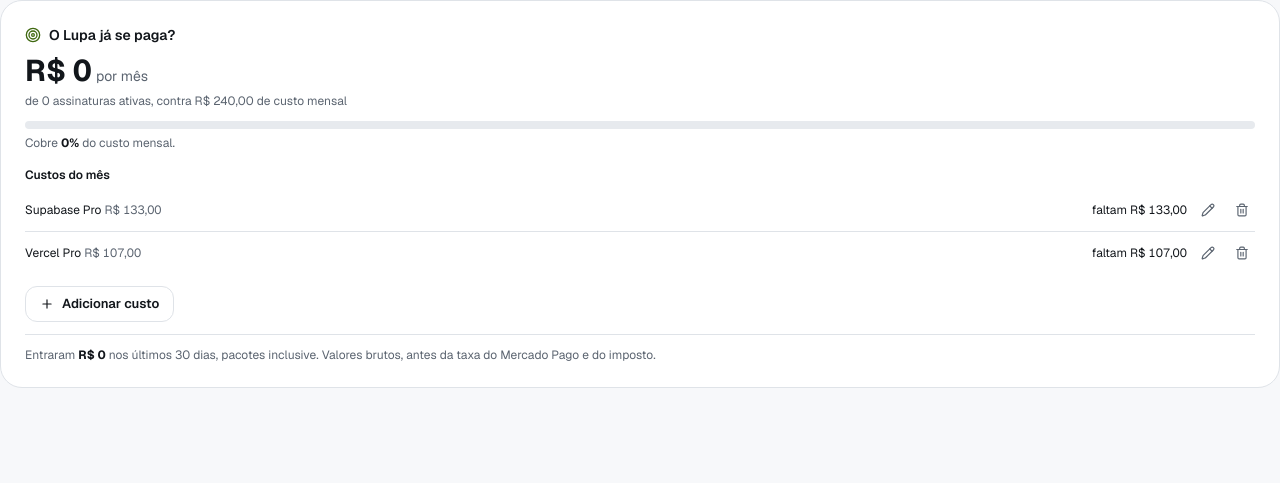
Scenario: o Lupa já se paga? › acrescentar manda nome e valor como digitados, e pede a conta de novo
Click the button "Adicionar custo": [100, 304] box [25,286,174,322]
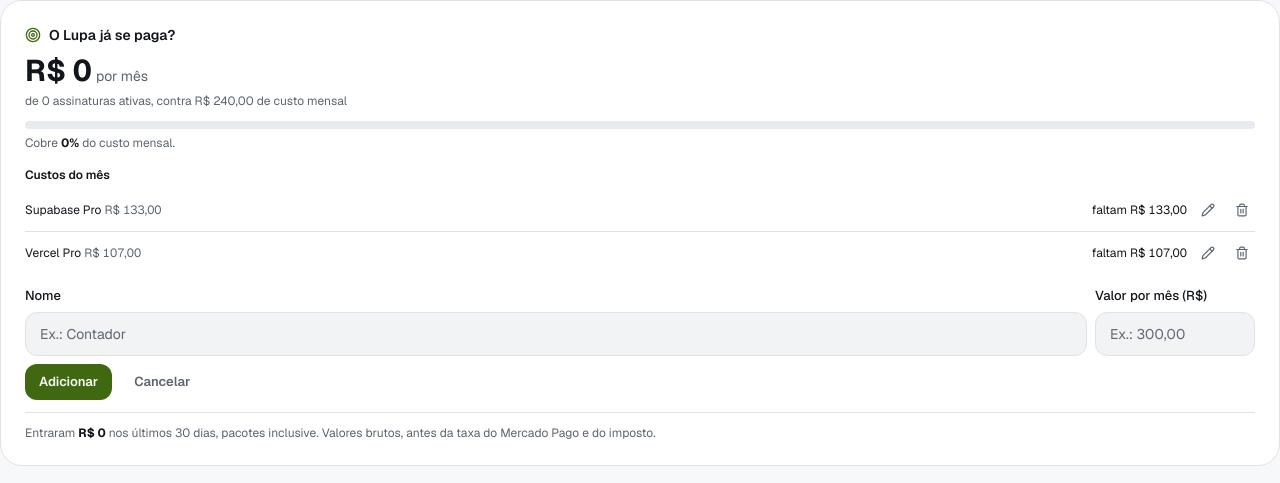
In the field labelled "Nome": [556, 334] box [25,312,1087,356], type "Contador"
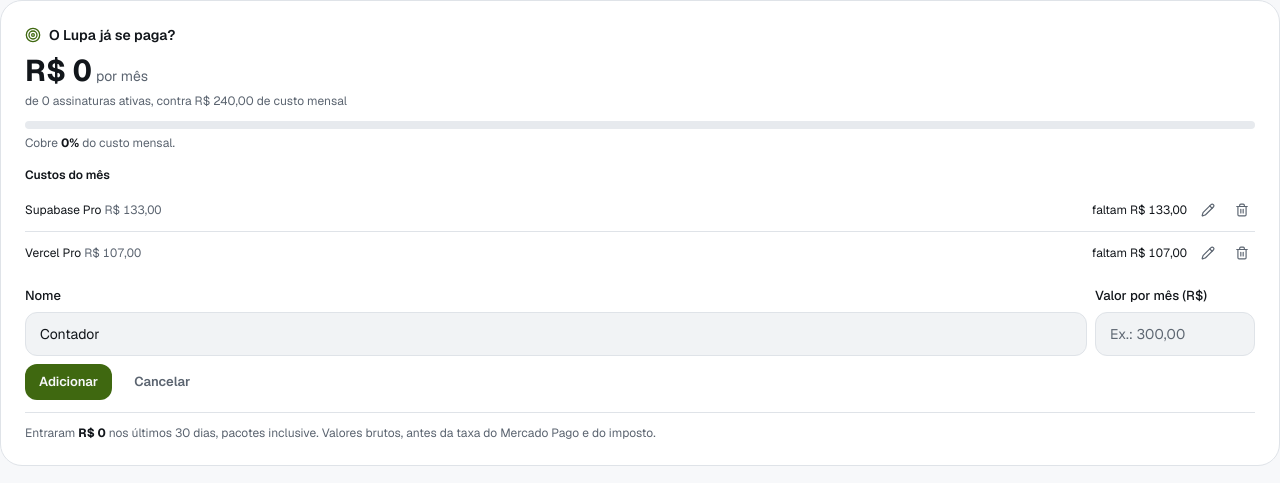
In the field labelled "Valor por mês (R$)": [1175, 334] box [1095,312,1255,356], type "300,00"
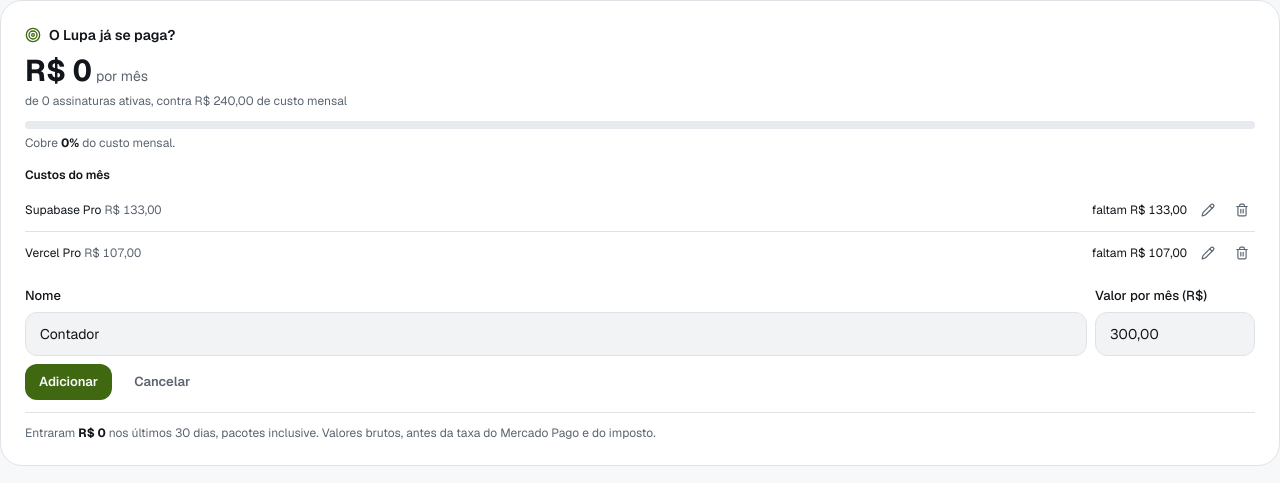
Click the button "Adicionar": [69, 382] box [25,364,112,400]
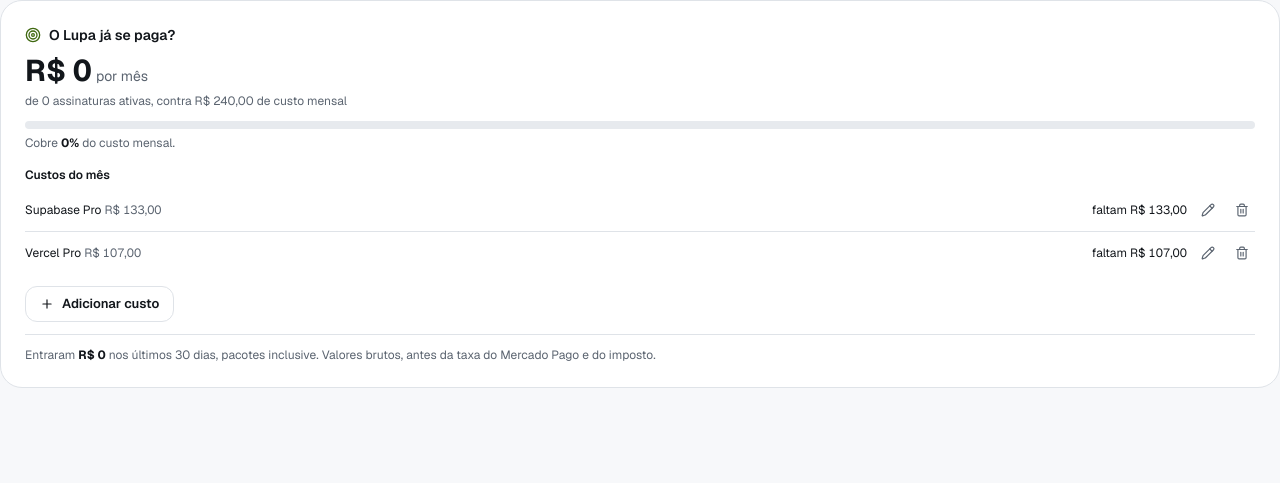
Result: the label labelled "Nome" is gone
